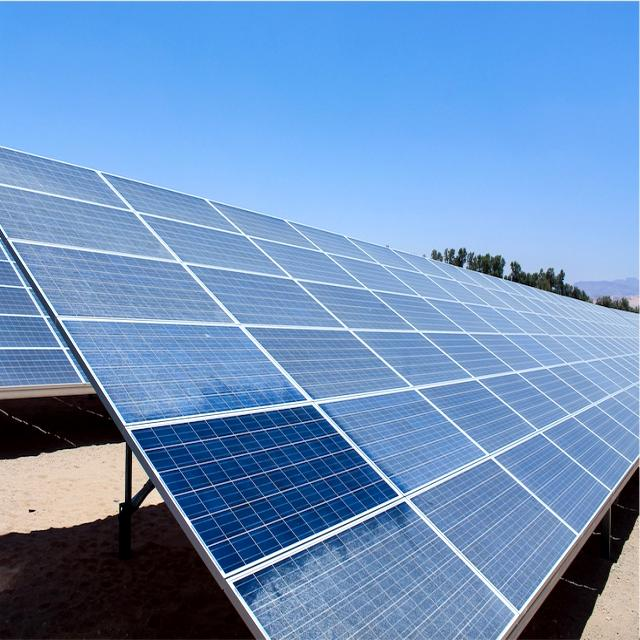dust: (109, 328, 281, 404), (234, 222, 360, 318), (503, 365, 616, 463), (250, 584, 460, 636), (390, 262, 474, 366), (337, 390, 487, 438), (44, 258, 188, 308), (425, 494, 564, 544), (12, 197, 150, 247), (0, 306, 68, 390), (323, 541, 439, 584), (466, 542, 543, 589), (163, 226, 230, 258)
